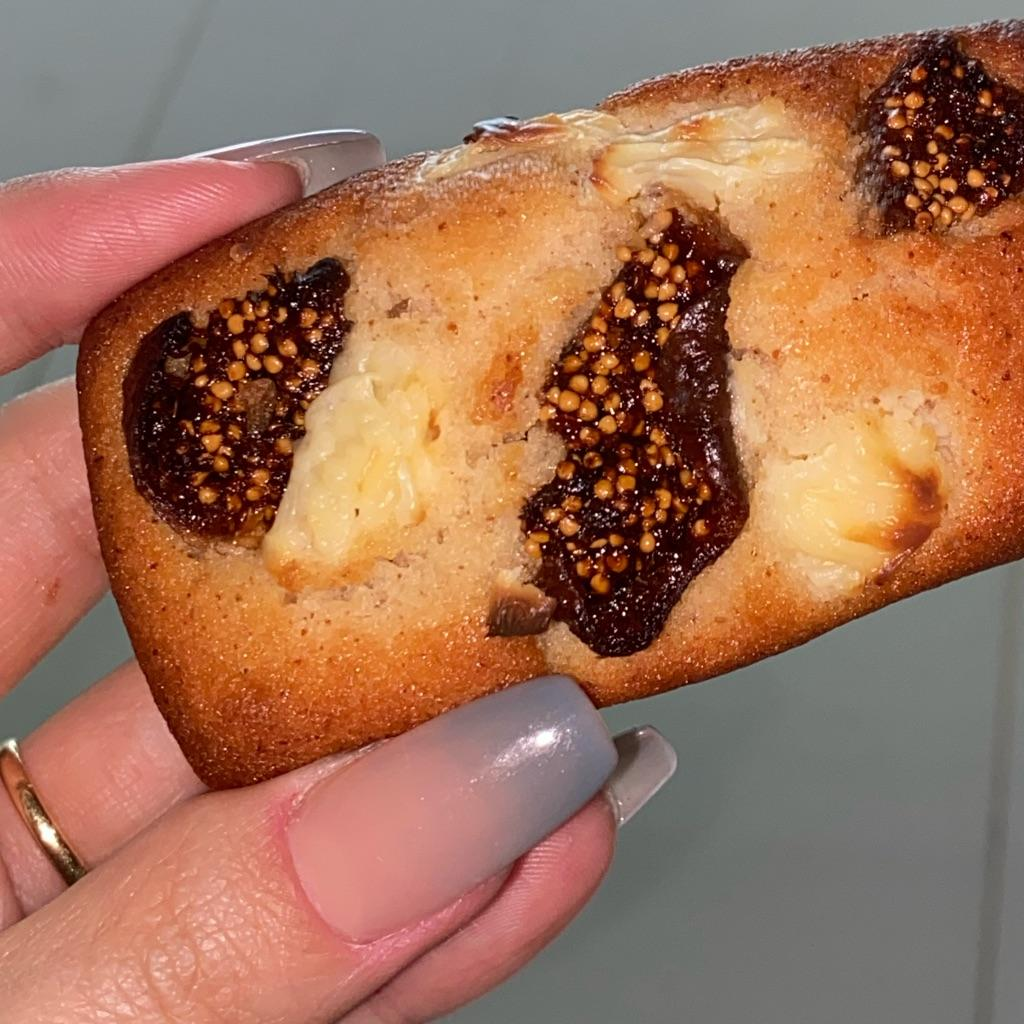nail: (277, 671, 620, 946)
